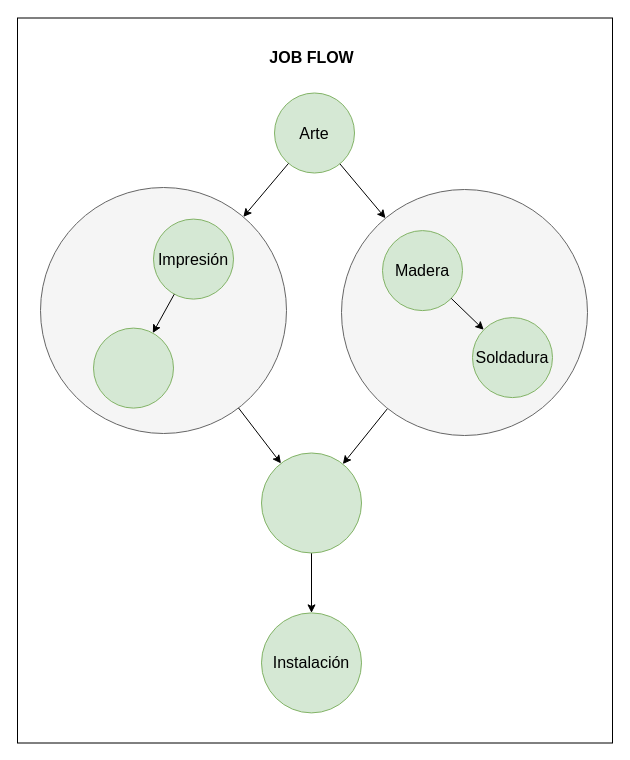
Image size: 630x760. Some labels were removed from this diagram. The shapes that lost their labels are listed below. From the top down, each one's box as (x1, y1, x2, y2) in pixels, then its label:
(92, 327, 174, 408): Corte
(260, 452, 362, 553): Ensamble
